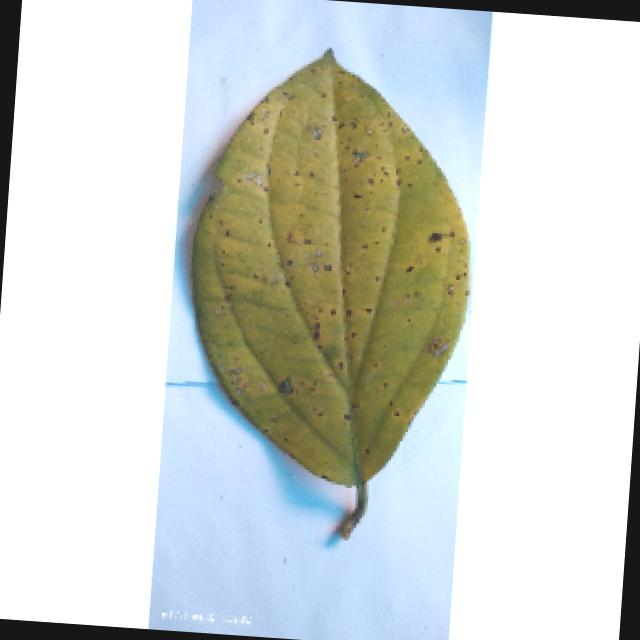slow-decline: (162, 31, 497, 558)
